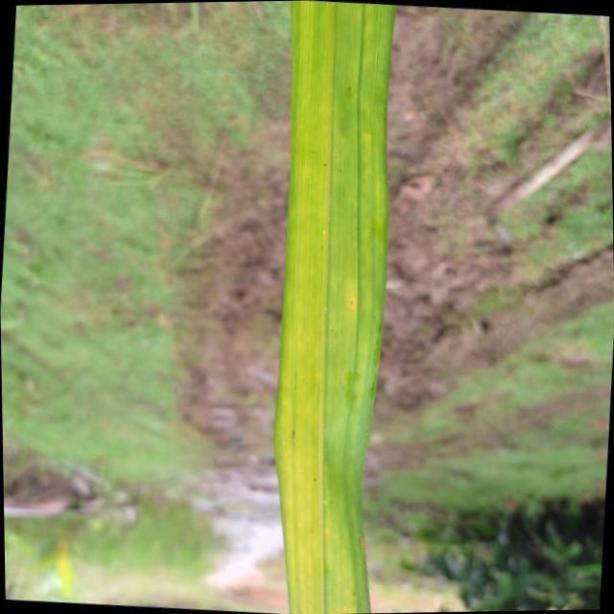nitrogen: (274, 0, 397, 614)
